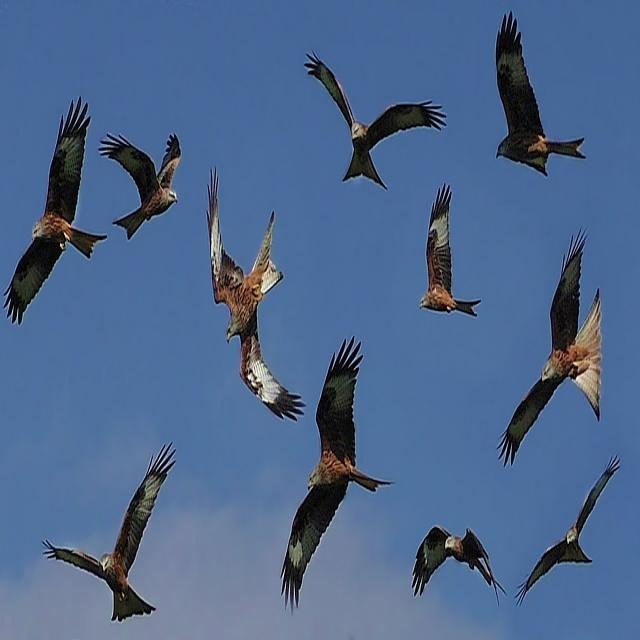bird: (494, 223, 606, 479), (36, 438, 187, 626), (201, 175, 309, 433), (3, 88, 116, 331), (277, 442, 399, 626), (302, 56, 450, 192), (510, 446, 618, 612), (487, 10, 591, 178), (414, 188, 489, 312), (100, 131, 184, 240), (410, 528, 506, 603)
